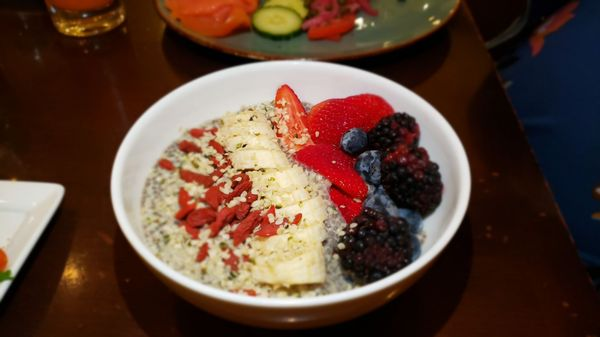sushi: (108, 59, 472, 330)
